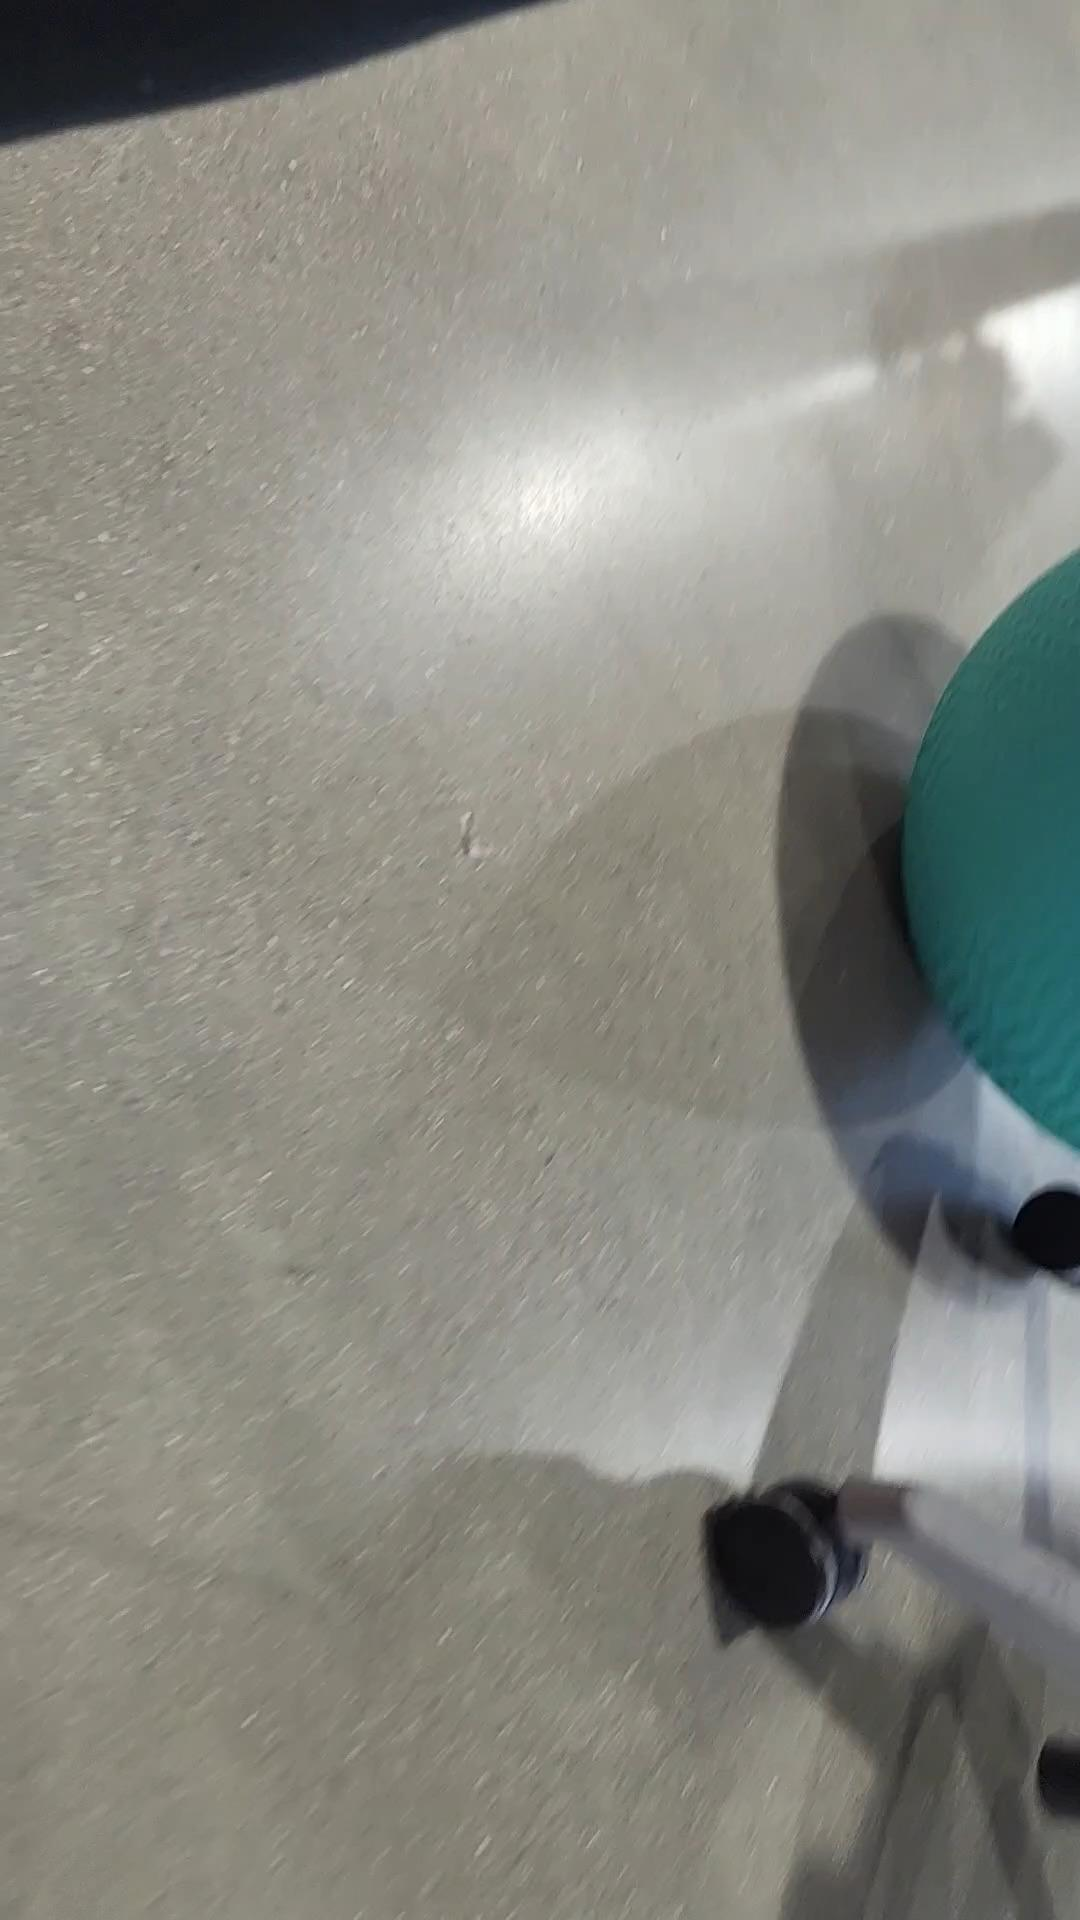algae: (895, 525, 1080, 1167)
